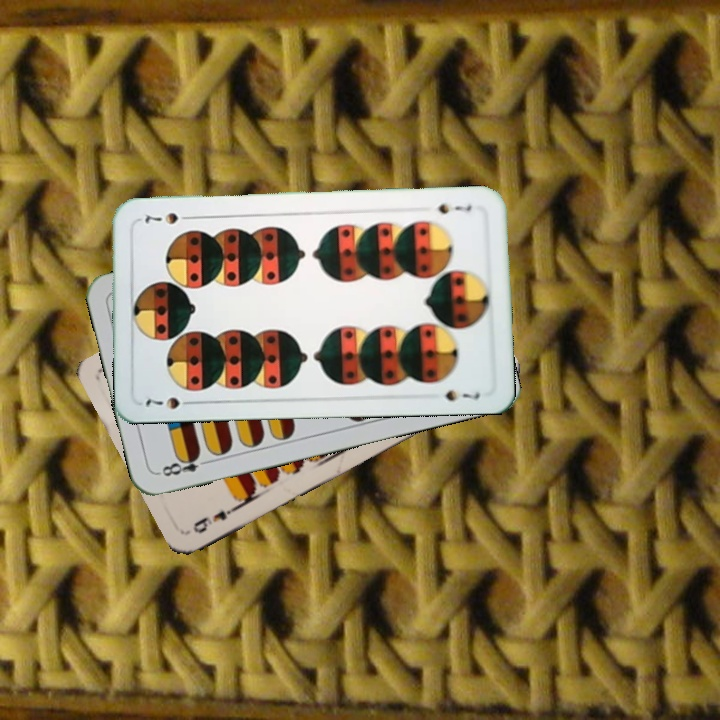E8: (155, 449, 213, 479)
E9: (188, 501, 241, 536)
S7: (141, 393, 198, 412), (432, 199, 474, 217)
